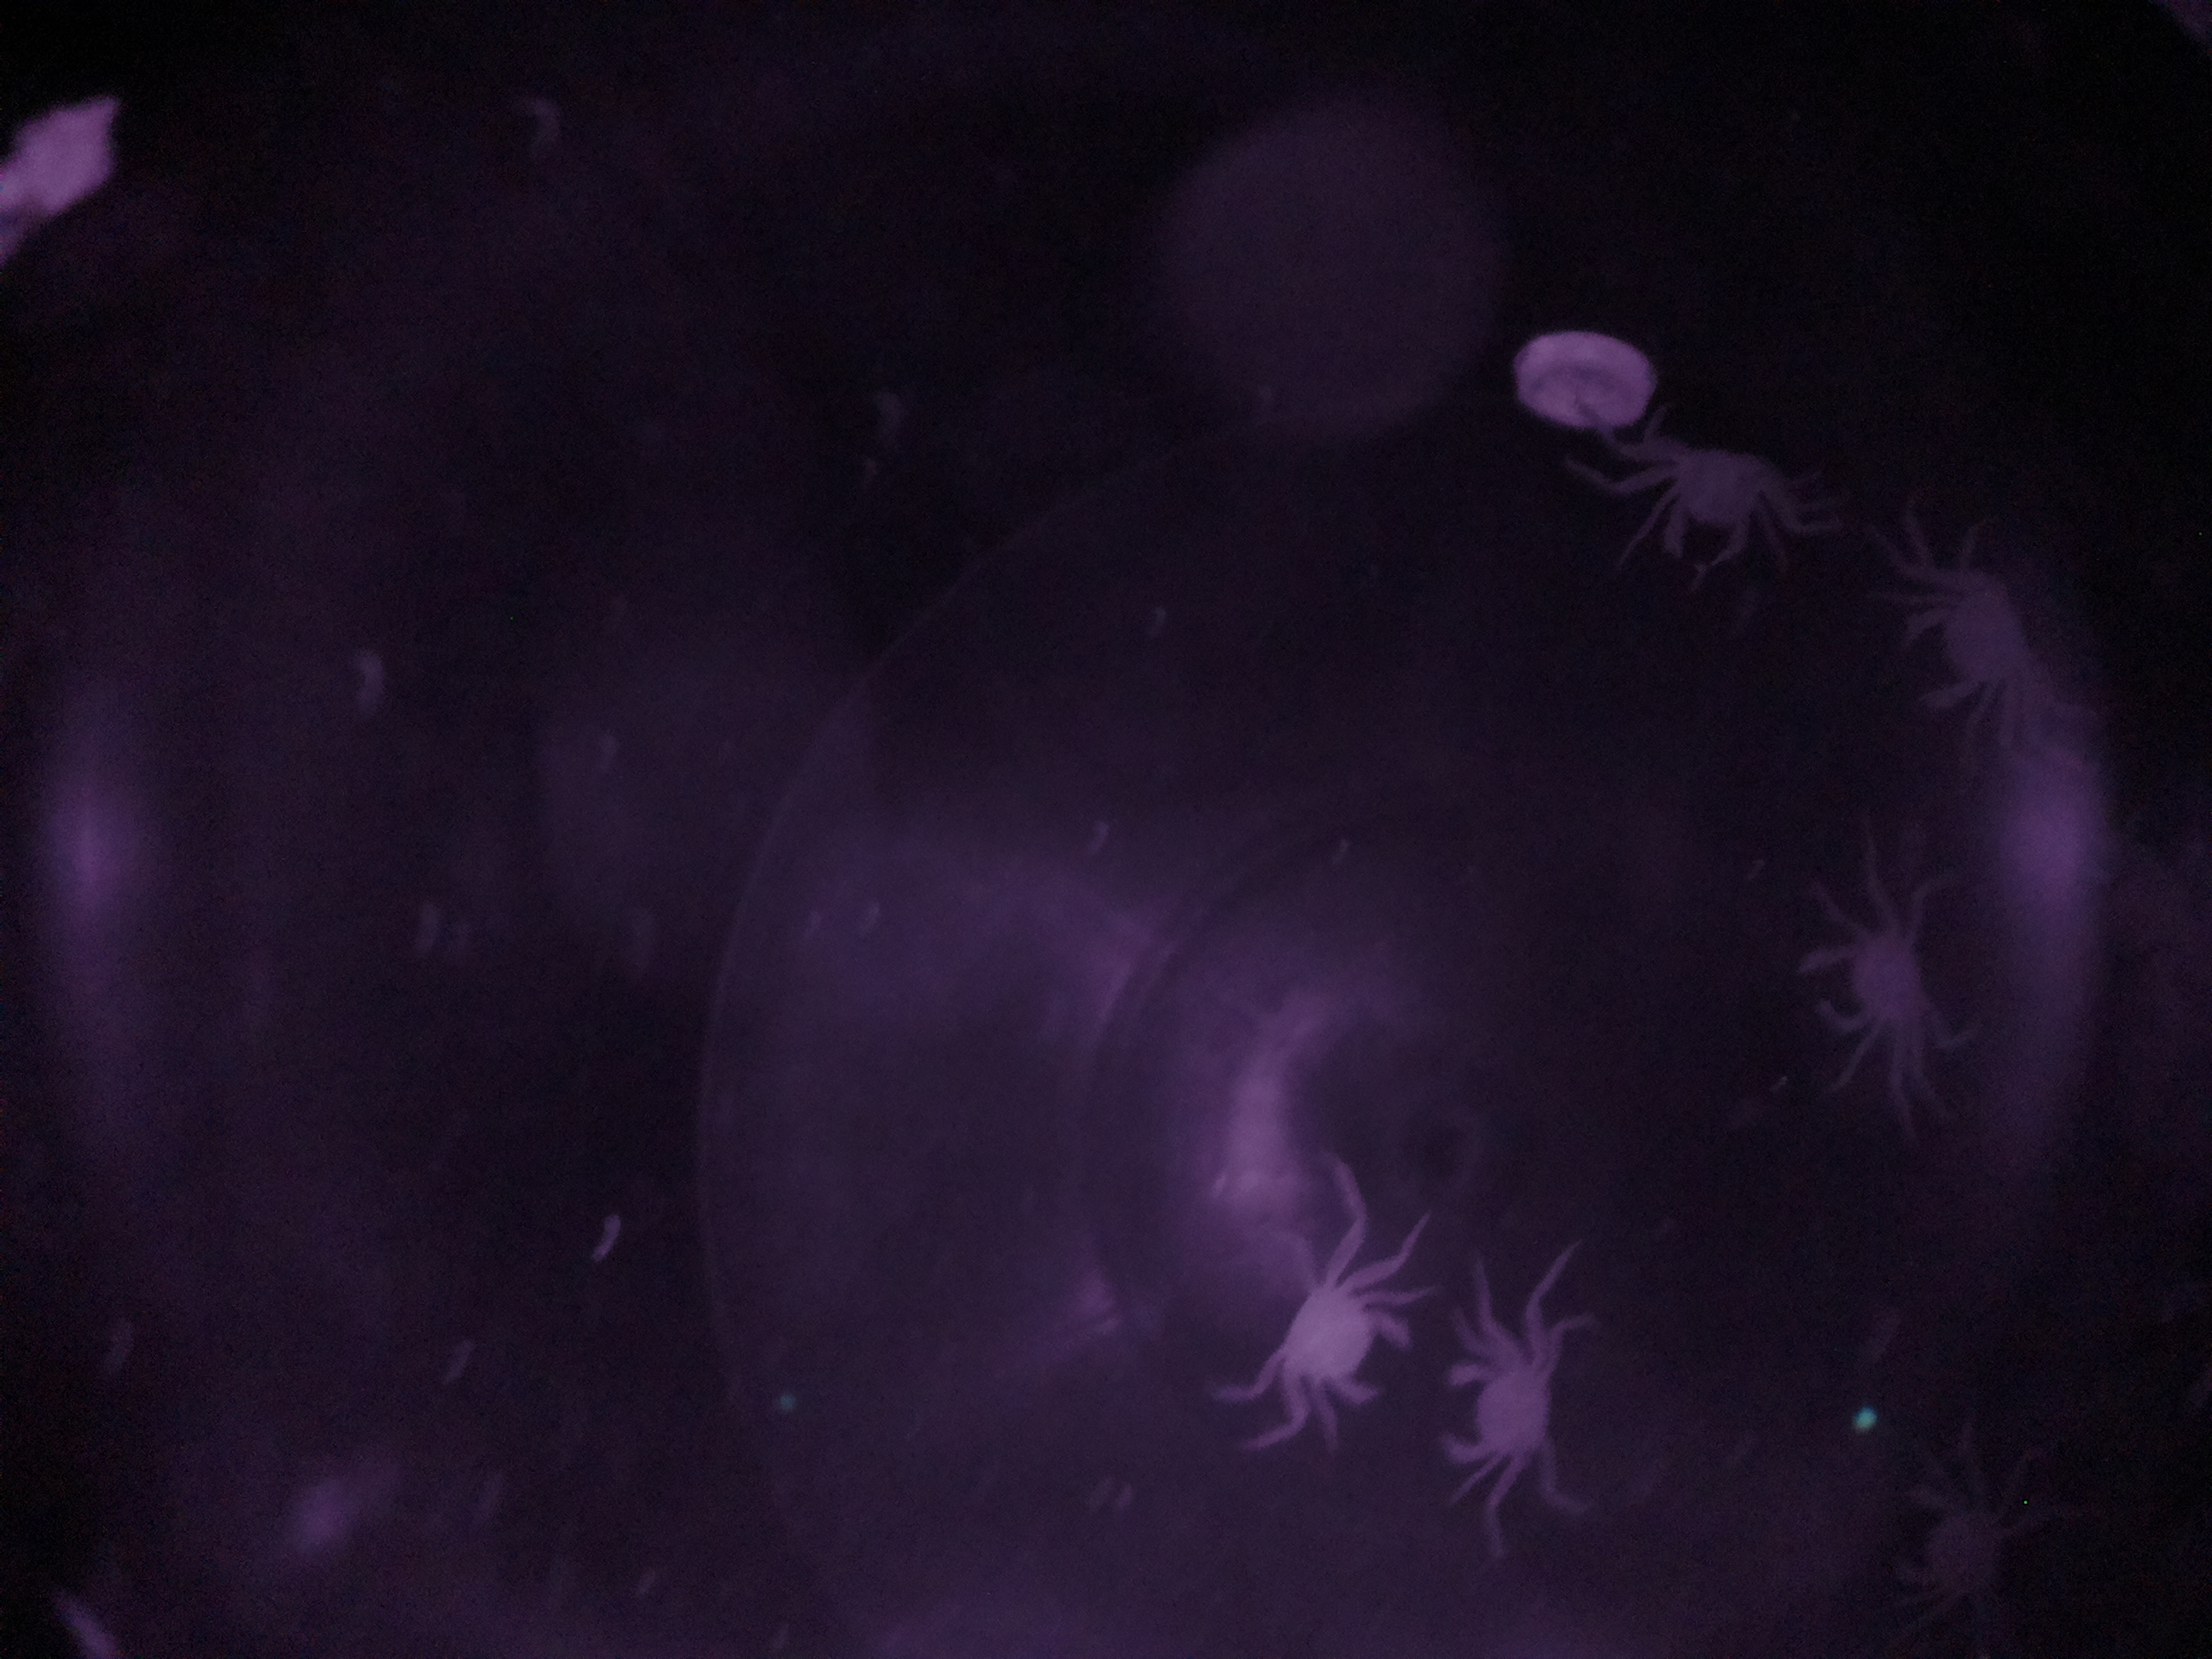Crab: (1233, 1225, 1423, 1422), (1435, 1328, 1601, 1507), (1632, 413, 1784, 592), (1763, 920, 1958, 1051)
